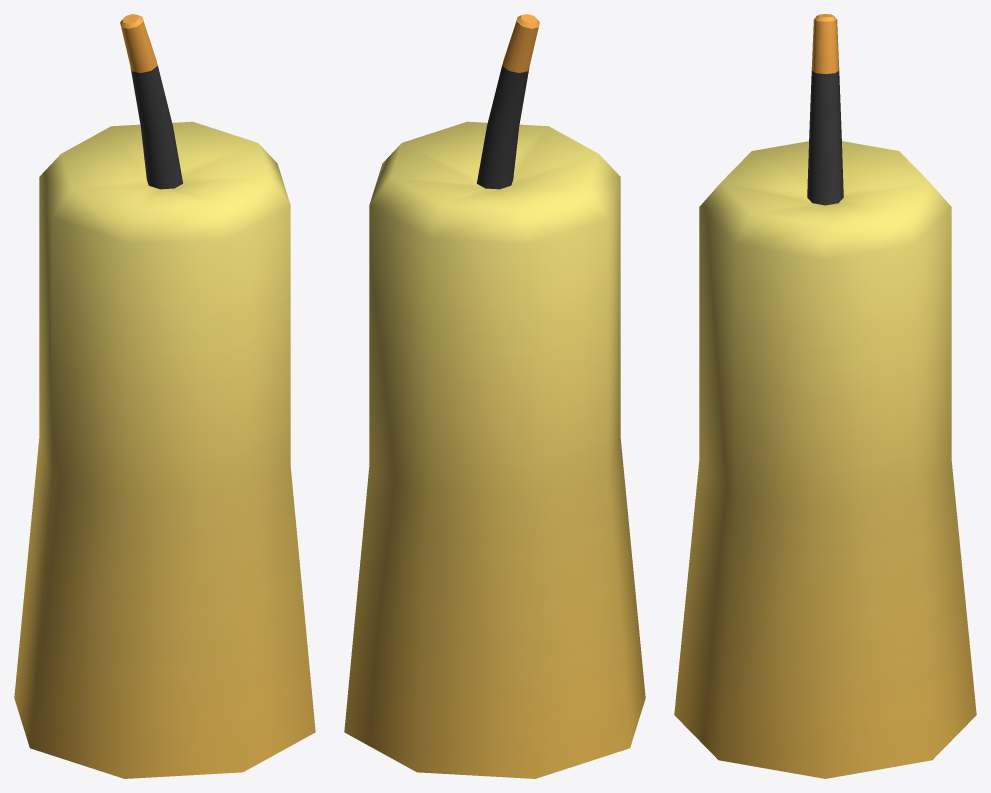
Rendered from Candle_1.glb.
3 views of the same model, side by side, from view 1: azimuth 30°, elevation 25°; view 2: azimuth 150°, elevation 25°; view 3: azimuth 270°, elevation 25° (orthographic). The views are drawn at different scales.
Parts seen in each view (by area): view 1: Candle_1; view 2: Candle_1; view 3: Candle_1.
Boxes of the visible parts, x1,y1,x2,y2 form: Candle_1: [14, 14, 315, 778]; Candle_1: [344, 14, 645, 778]; Candle_1: [674, 14, 976, 778].
Bounding box in the file's own units: 0.0695 × 0.1737 × 0.0695.
1 material, 1 textured.
